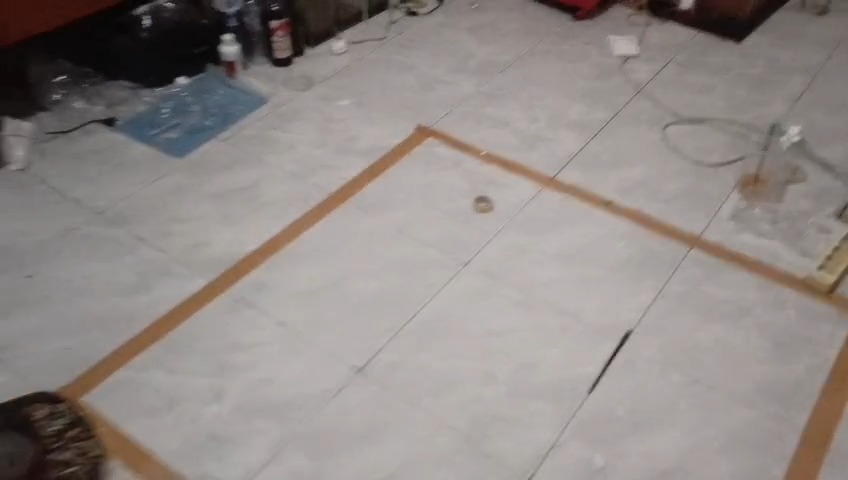floor marking: (61, 125, 847, 400), (790, 348, 847, 479), (91, 412, 183, 479)
